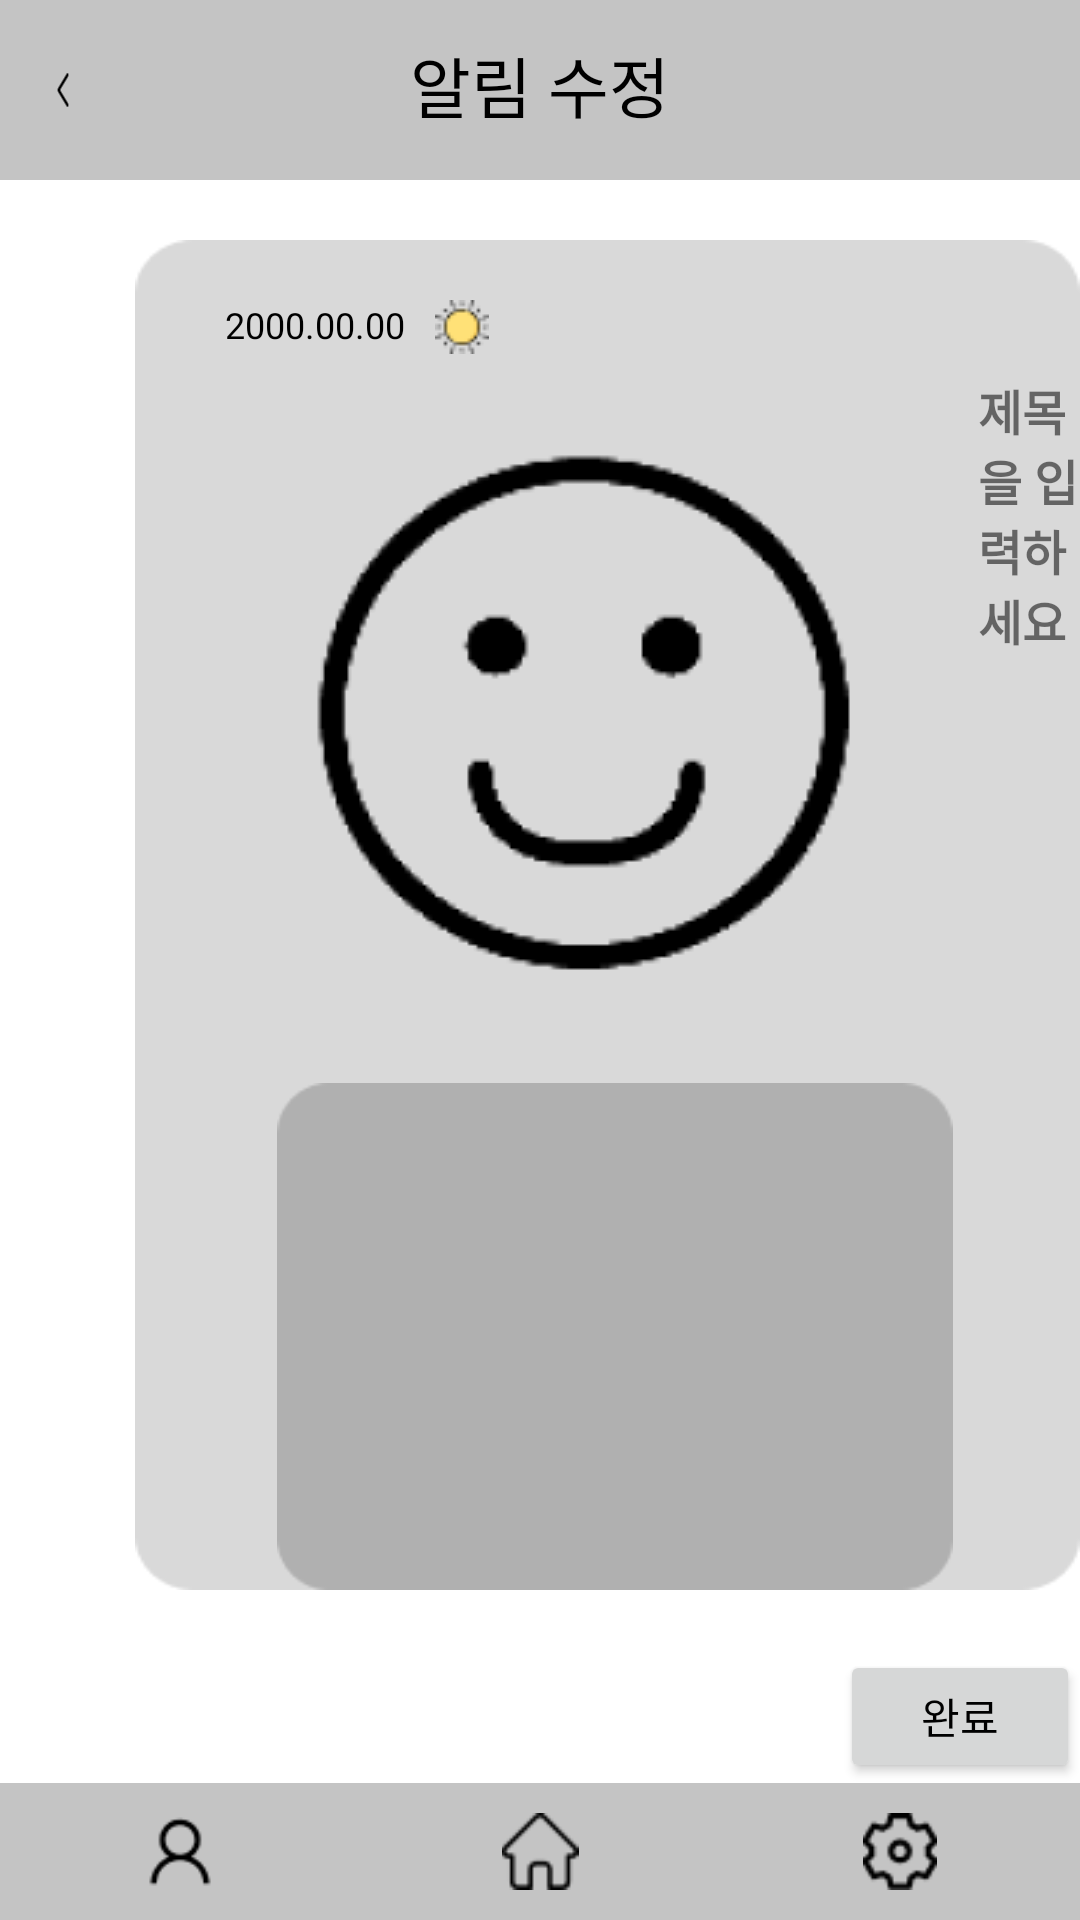

Icon bounding boxes for this 1080w x 1920h phone screenshot, format (x1, y1, x2, y2):
home: (502, 1813, 579, 1890)
mypage: (149, 1818, 211, 1885)
setting: (863, 1813, 937, 1890)
